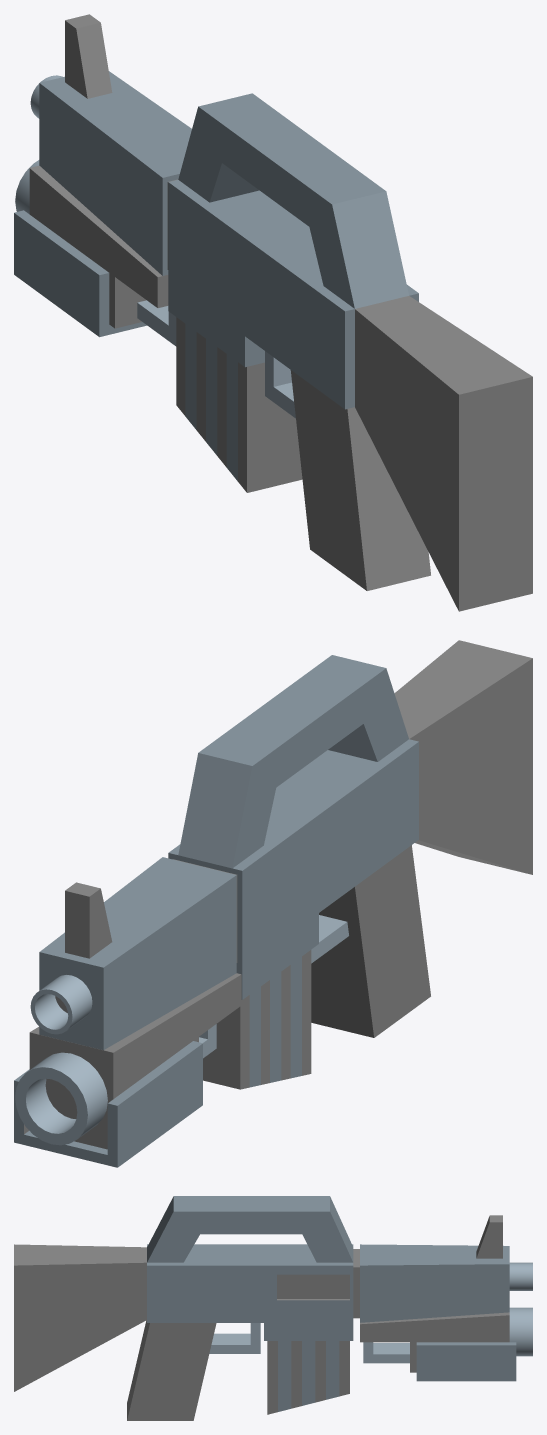
The model's file is machinegunLauncher.gltf.
The picture shows the model from 3 angles, top to bottom: view 1: azimuth 30°, elevation 25°; view 2: azimuth 150°, elevation 25°; view 3: azimuth 270°, elevation 25°; orthographic projection. The views are drawn at different scales.
Parts seen in each view (by area): view 1: Group (×3); view 2: Group (×3); view 3: Group (×3).
Boxes of the visible parts, x1,y1,x2,y2 form: Group (×3): (14, 14, 532, 611); Group (×3): (14, 640, 532, 1167); Group (×3): (14, 1196, 532, 1420).
Bounding box in the file's own units: 0.0804 × 0.2641 × 0.5972.
